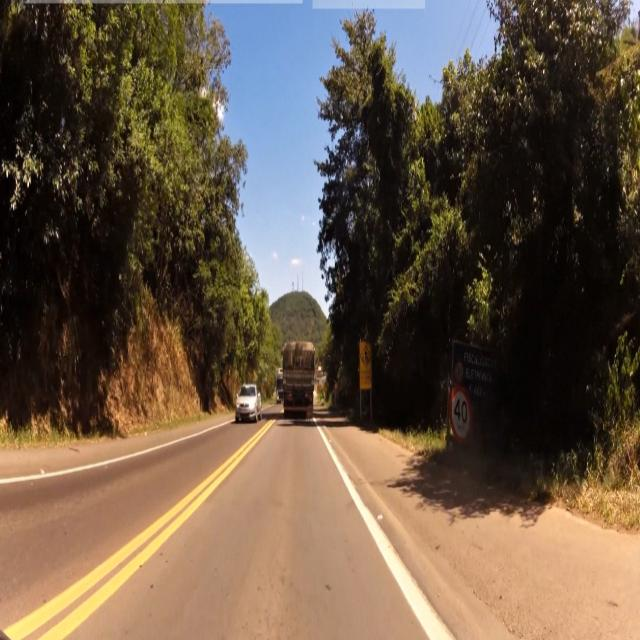R-19: (450, 386, 472, 444)
